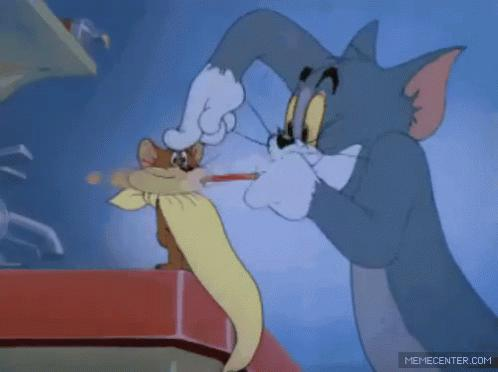jerry: (136, 138, 214, 273)
